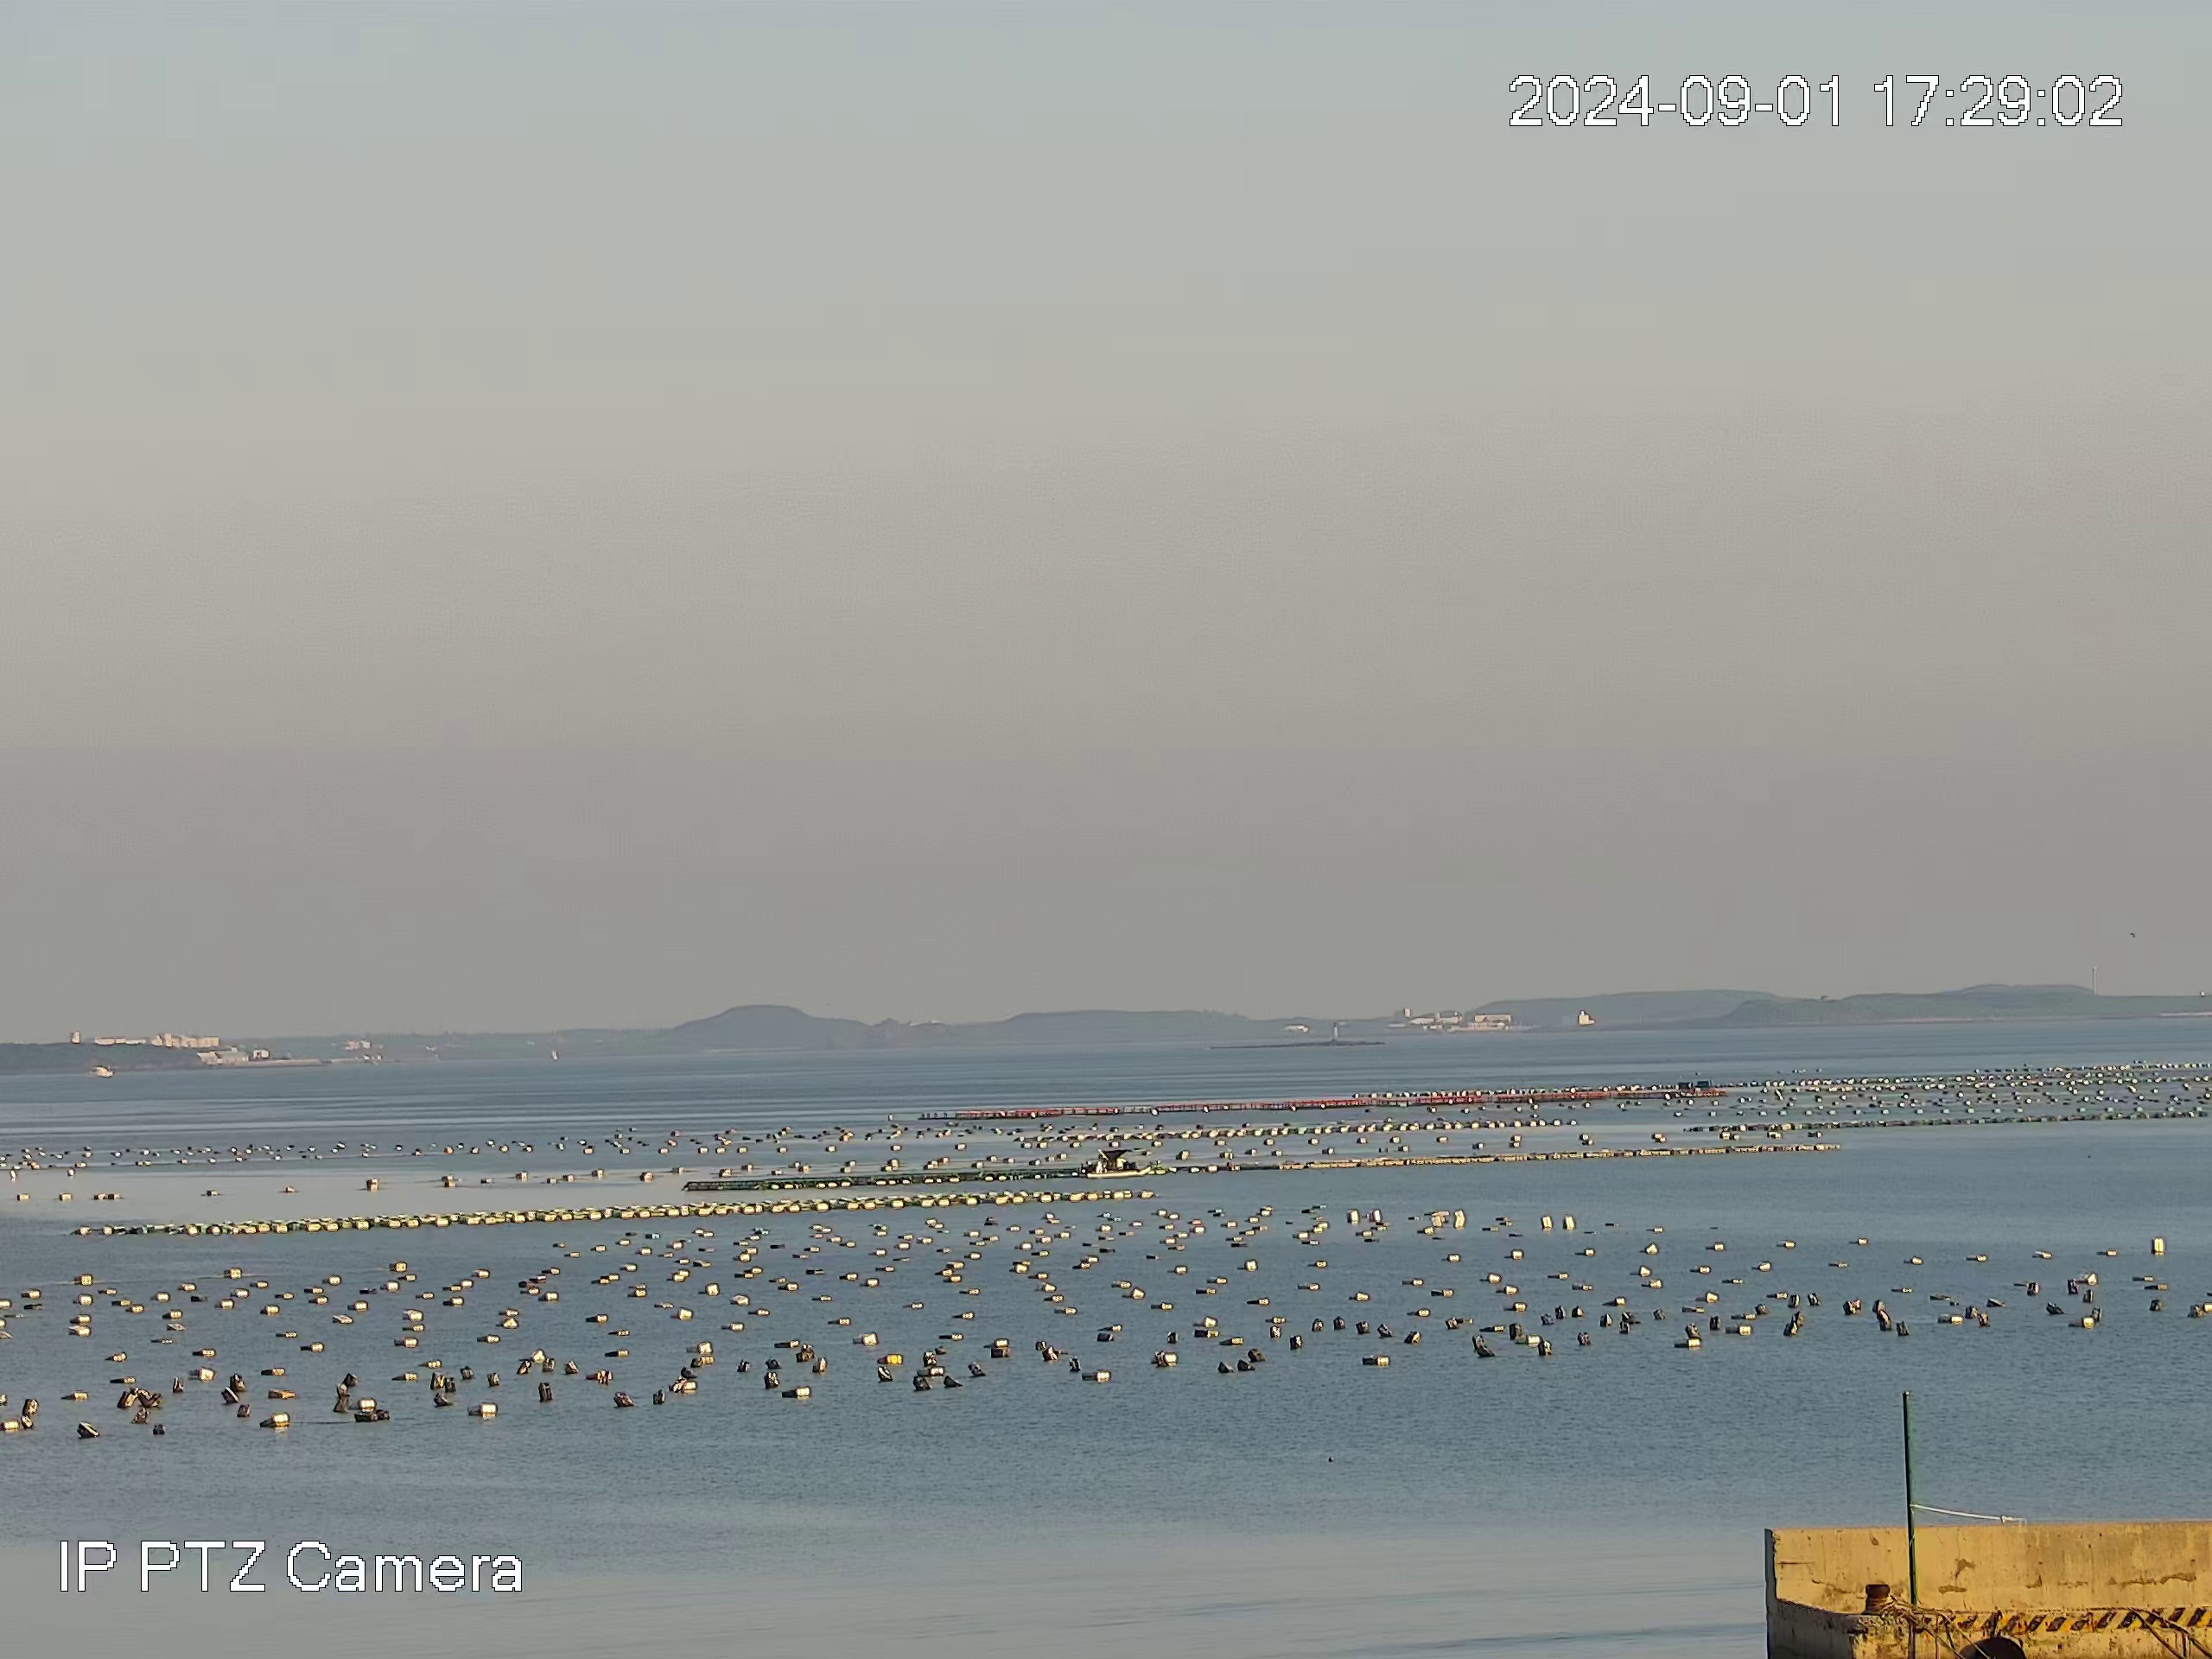boat: (1087, 1145, 1151, 1178)
